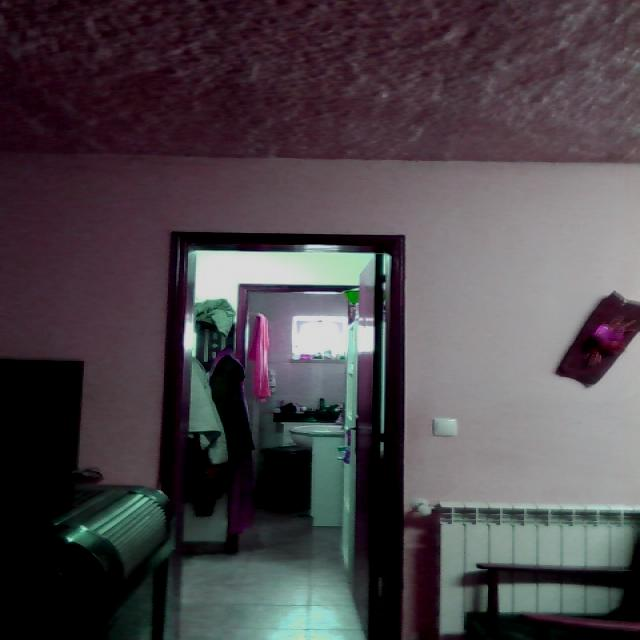door: (149, 219, 420, 640)
